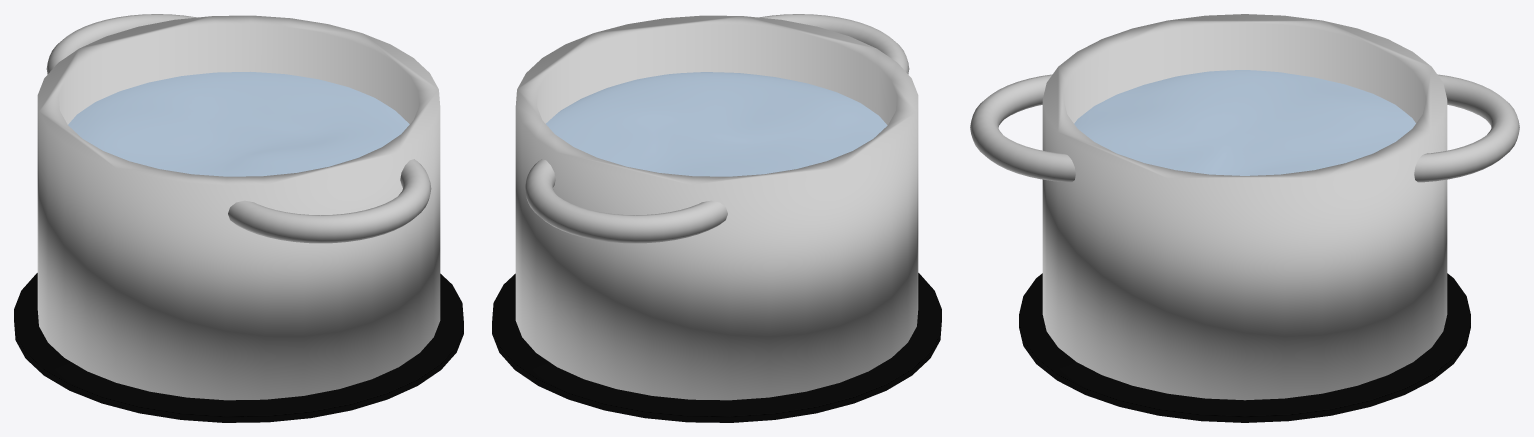
Rendered from steamerondeh1.fbx.
The picture shows the model from 3 angles, left to right: view 1: azimuth 30°, elevation 25°; view 2: azimuth 150°, elevation 25°; view 3: azimuth 270°, elevation 25°; orthographic projection.
Visible parts, largest first — view 1: Cylinder.004, Sphere.075, Cylinder.005, Torus.008, Torus.002; view 2: Cylinder.004, Sphere.075, Cylinder.005, Torus.002, Torus.008; view 3: Cylinder.004, Sphere.075, Cylinder.005, Torus.008, Torus.002.
Part boxes in pixels (x1,y1,x2,y2): Cylinder.004: [37, 15, 440, 400]; Sphere.075: [68, 71, 409, 176]; Cylinder.005: [14, 273, 463, 422]; Torus.008: [228, 159, 431, 243]; Torus.002: [46, 14, 197, 74]; Cylinder.004: [515, 15, 918, 400]; Sphere.075: [546, 72, 887, 176]; Cylinder.005: [492, 273, 941, 422]; Torus.002: [524, 159, 727, 243]; Torus.008: [758, 14, 909, 74]; Cylinder.004: [1042, 14, 1447, 400]; Sphere.075: [1074, 70, 1415, 175]; Cylinder.005: [1019, 273, 1470, 422]; Torus.008: [970, 74, 1075, 182]; Torus.002: [1414, 74, 1519, 182].
Size of the model in its own units: 189 by 105 by 229.
